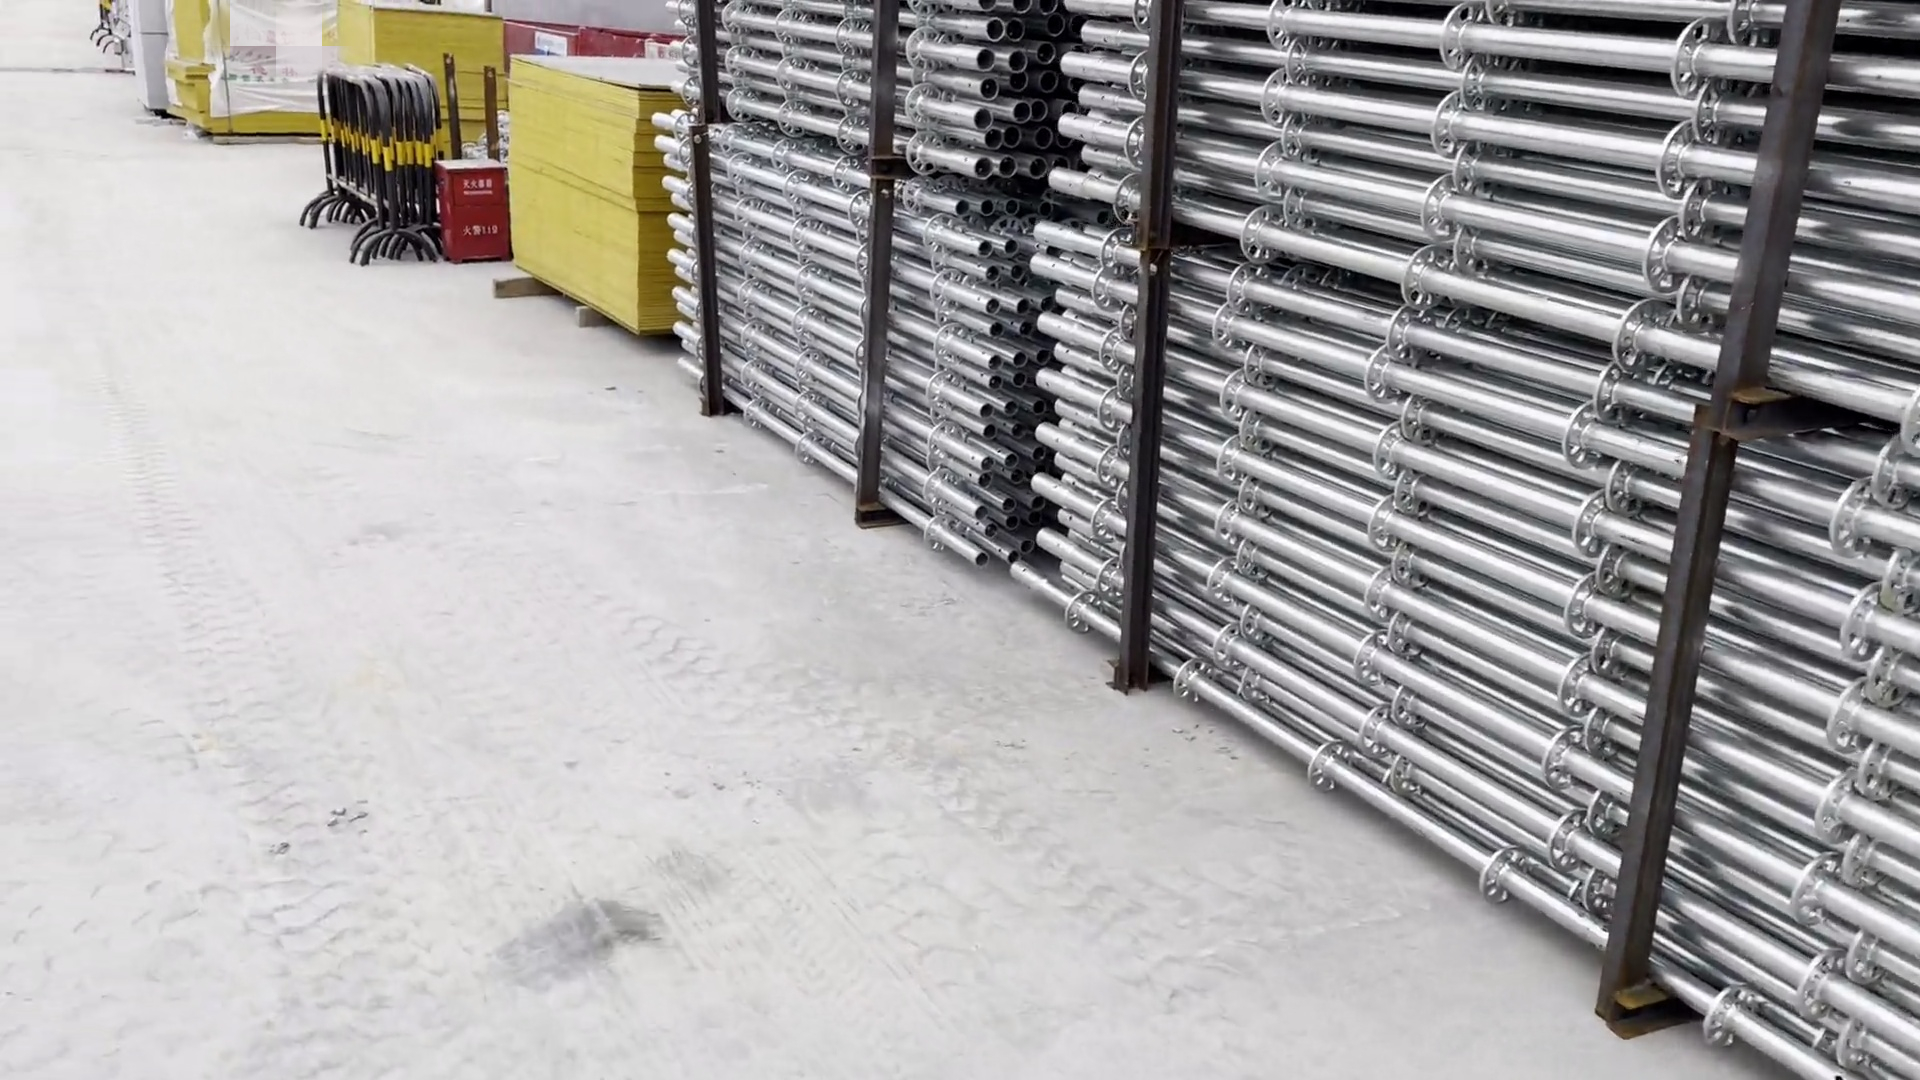board: (495, 55, 740, 339), (164, 1, 342, 164), (353, 5, 525, 127)
scaffold: (1062, 1, 1920, 1076), (645, 1, 1058, 543)
